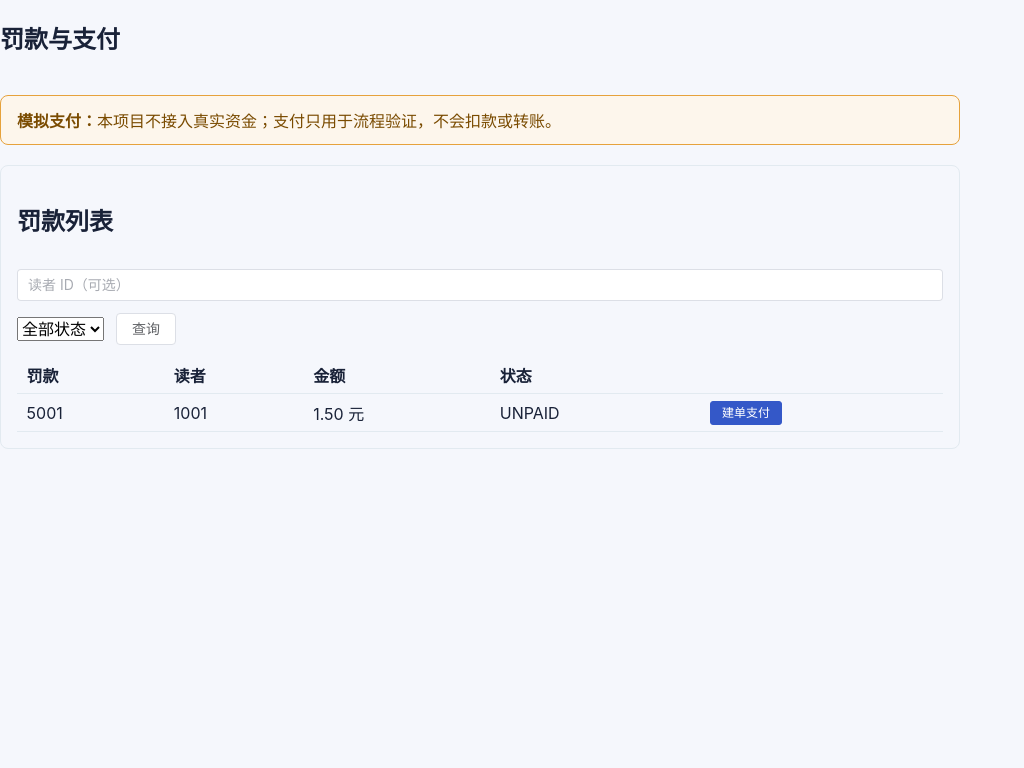
FineSettlementView › lists fines and creates an order from an unpaid fine
This screenshot has width=1024, height=768.
Expected: the element with test id "payment-simulation-warning" shows "不接入真实资金", [97,111,561,131]
Expected: the element with test id "payment-simulation-warning" shows "不会扣款或转账", [97,111,561,131]
Click the button with test id "create-order-5001" at (746, 413), box [710,401,782,425]
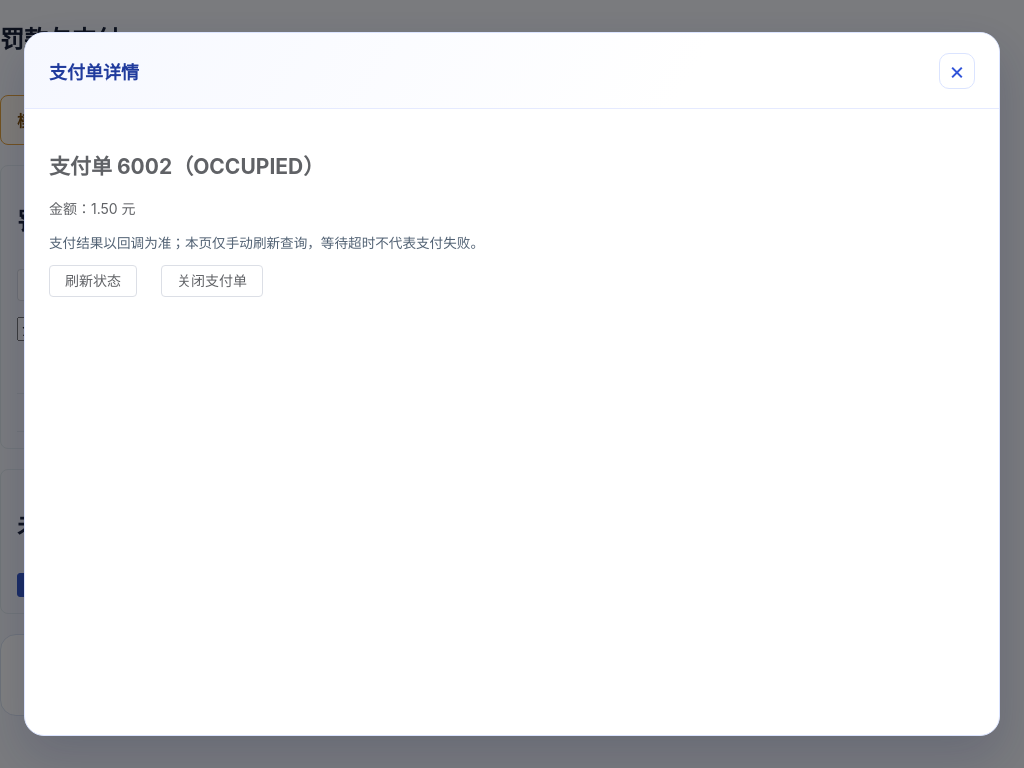
Expected: the heading with test id "order-panel-title" shows "6002", [49,154,324,179]
Expected: the text with test id "order-wait-note" shows "等待超时不代表支付失败", [49,235,484,251]
